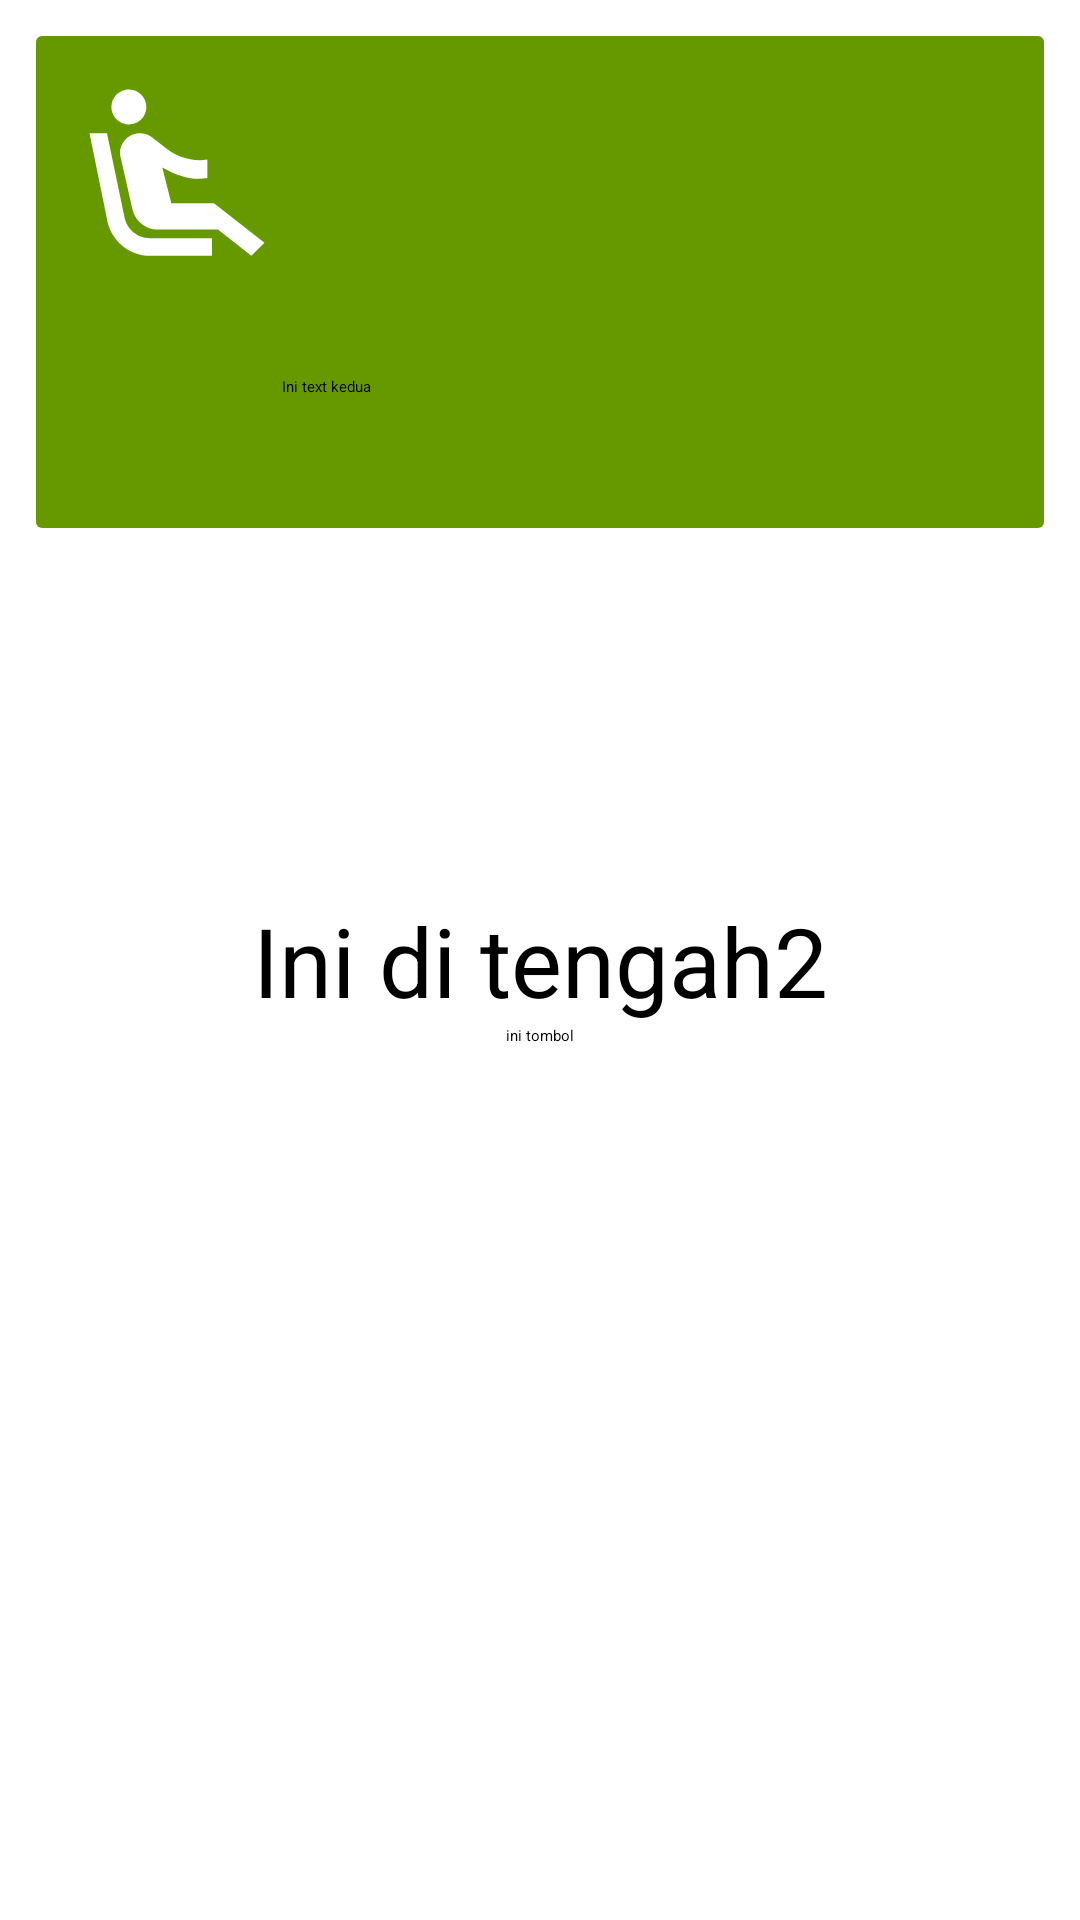

Screen size 1080×1920. Icon name, then its center in pixels as [x,y]:
seat: [177,172]
